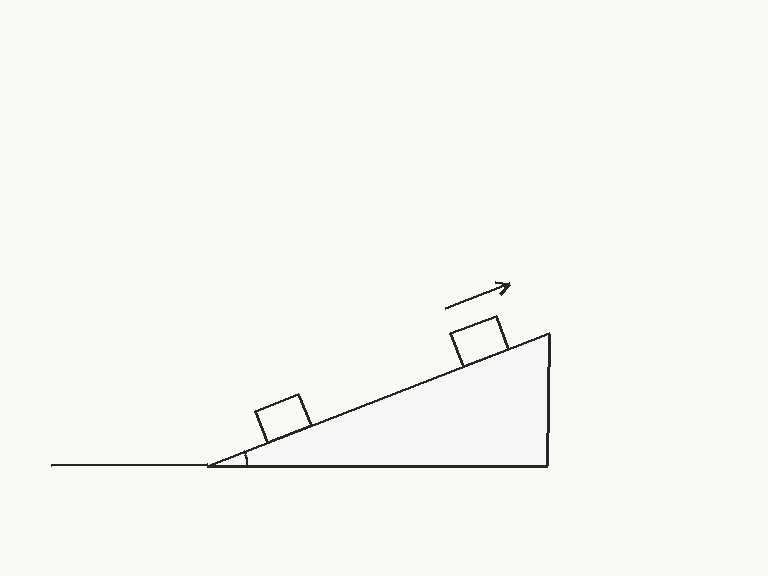block: (448, 314, 510, 369), (253, 392, 312, 444)
ramp: (205, 332, 550, 467)
